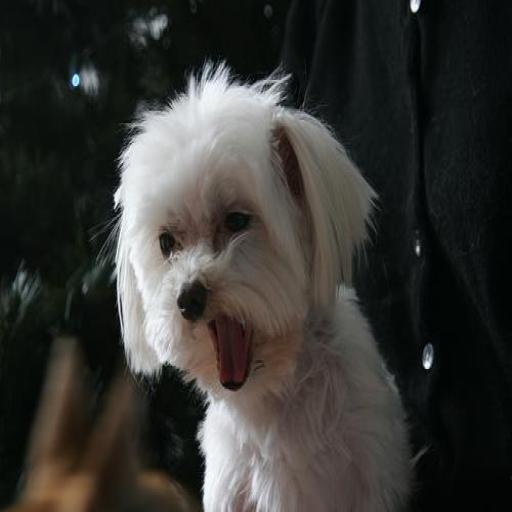dog_face: (110, 94, 352, 392)
